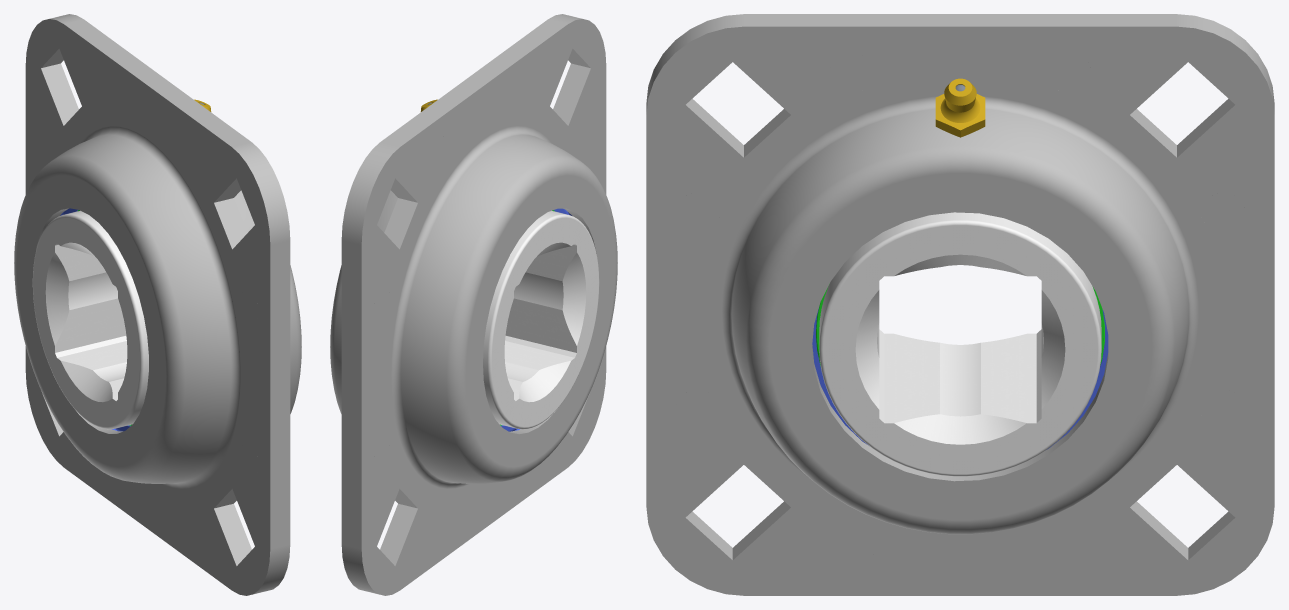
The model's file is DHU-1-14S209.glb.
3 views of the same model, side by side, from view 1: azimuth 30°, elevation 25°; view 2: azimuth 150°, elevation 25°; view 3: azimuth 270°, elevation 25° (orthographic). The views are drawn at different scales.
Visible parts, largest first — view 1: carbon steel, texture; view 2: carbon steel, texture; view 3: carbon steel, texture, polished brass, texture-3.
Boxes of the visible parts, x1=… form: carbon steel: x1=14, y1=14, x2=301, y2=595; texture: x1=32, y1=210, x2=148, y2=429; carbon steel: x1=330, y1=14, x2=617, y2=595; texture: x1=483, y1=210, x2=599, y2=429; carbon steel: x1=646, y1=14, x2=1274, y2=595; texture: x1=819, y1=212, x2=1101, y2=476; polished brass: x1=935, y1=78, x2=985, y2=137; texture-3: x1=812, y1=308, x2=1108, y2=449.
Bounding box in the file's own units: 0.0428 × 0.127 × 0.127.
11 materials, 7 textured.
